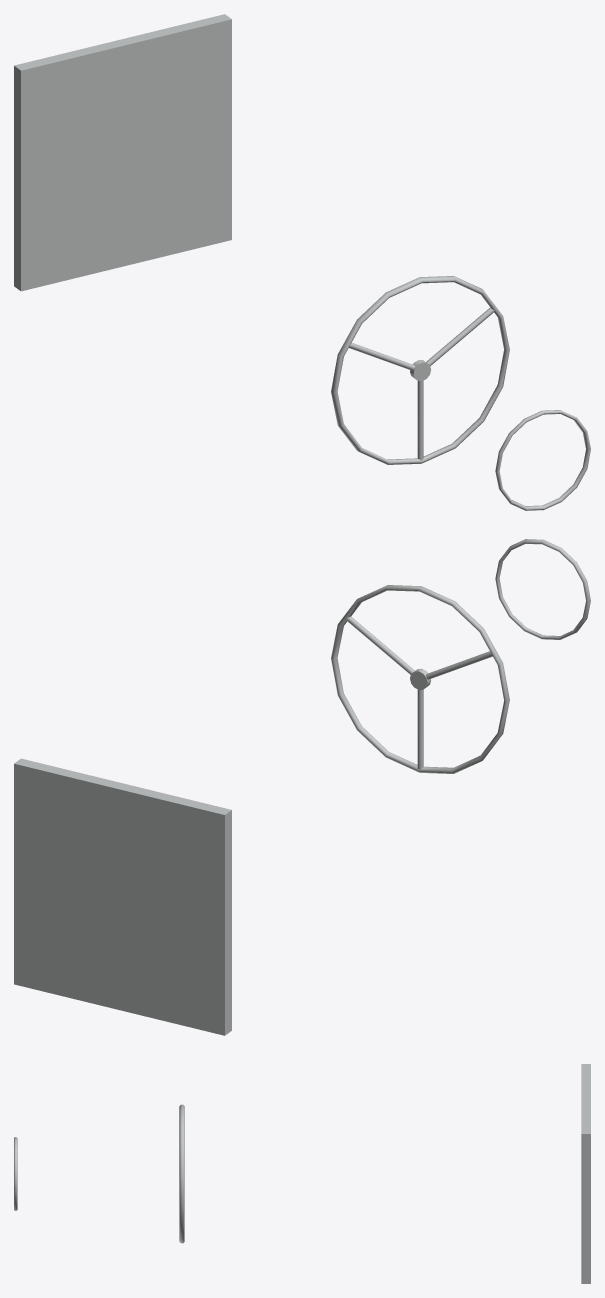
Rendered from MeshFloorLamp_13_0_GeomSubset_1.obj.
3 views of the same model, one above another, from view 1: azimuth 30°, elevation 25°; view 2: azimuth 150°, elevation 25°; view 3: azimuth 270°, elevation 25° (orthographic). The views are drawn at different scales.
Parts seen in each view (by area): view 1: MeshFloorLamp_13_0_GeomSubset_1; view 2: MeshFloorLamp_13_0_GeomSubset_1; view 3: MeshFloorLamp_13_0_GeomSubset_1.
Boxes of the visible parts, box(x1,y1,x2,y2) form: MeshFloorLamp_13_0_GeomSubset_1: box(14, 14, 590, 510); MeshFloorLamp_13_0_GeomSubset_1: box(14, 539, 590, 1035); MeshFloorLamp_13_0_GeomSubset_1: box(14, 1064, 590, 1283).
Bounding box in the file's own units: 0.5722 × 0.5722 × 2.
